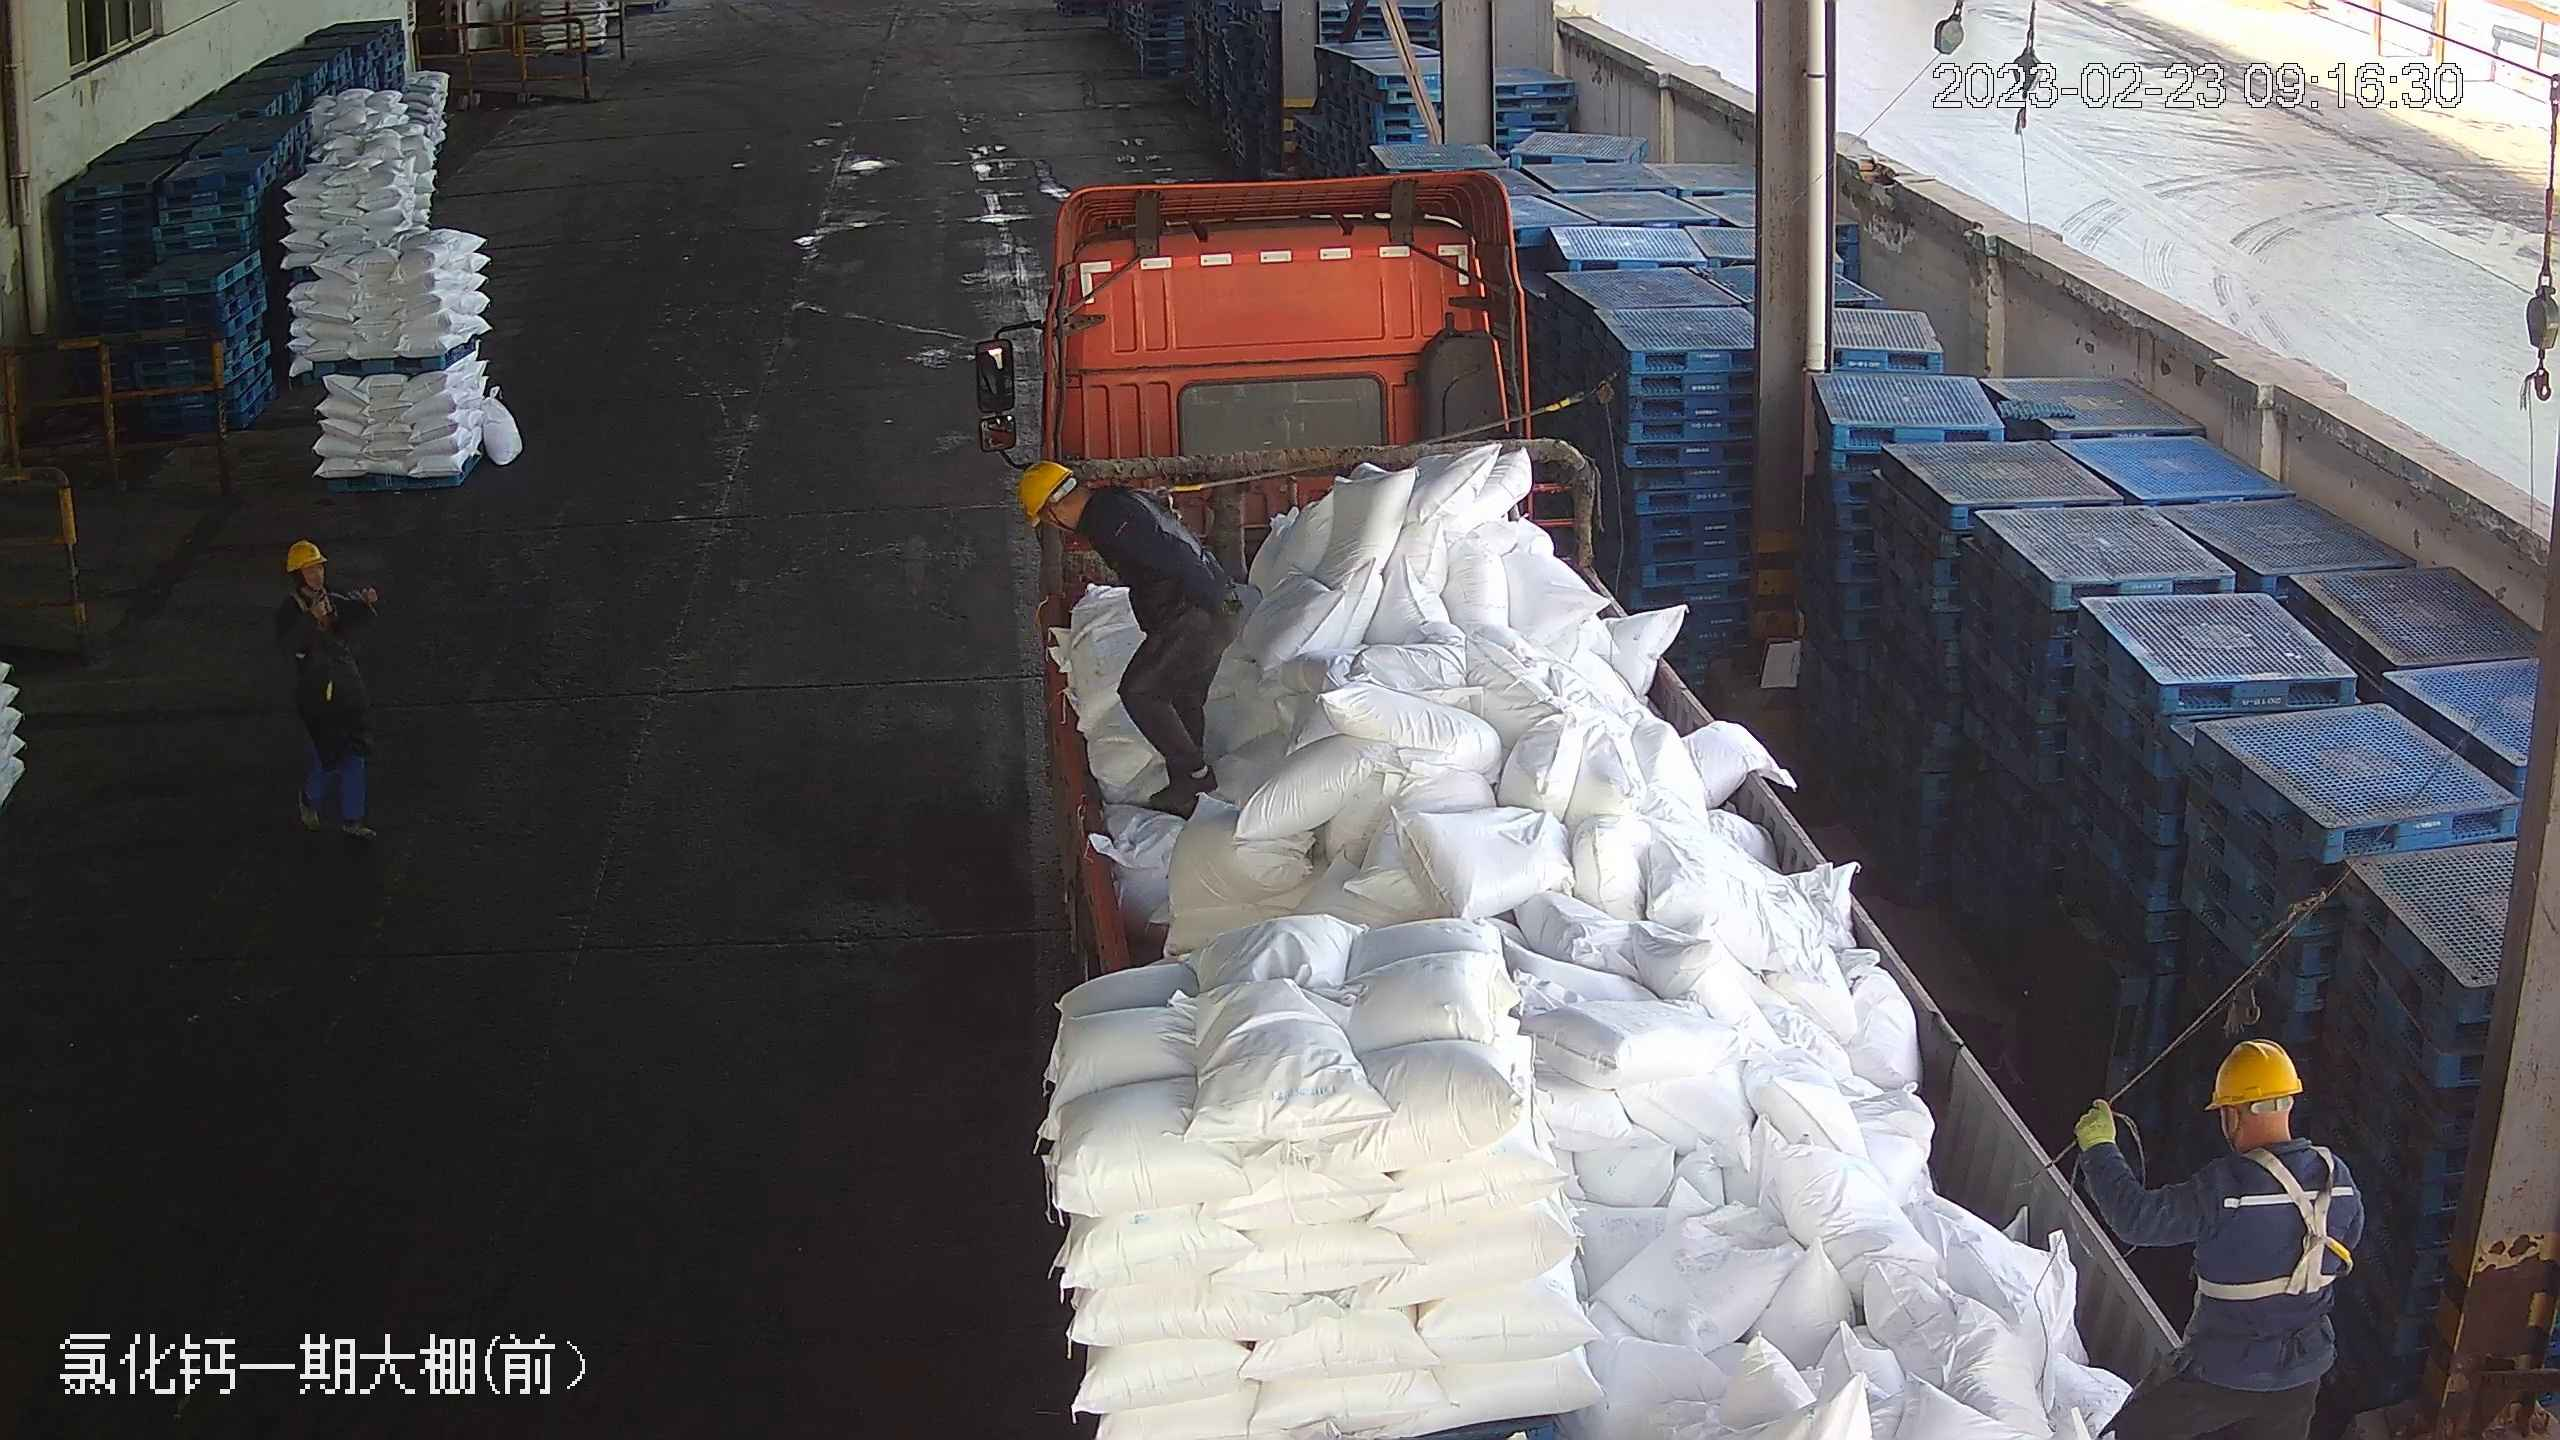belt: (2203, 1140, 2360, 1304), (1108, 469, 1223, 534), (290, 585, 342, 623)
head: (2175, 1037, 2361, 1240), (1017, 459, 1182, 579), (274, 538, 358, 628)
helmet: (2205, 1039, 2304, 1105), (1015, 460, 1076, 527), (280, 536, 327, 572)
people: (2070, 1037, 2363, 1440), (1016, 460, 1246, 827), (269, 532, 386, 843)
truck: (977, 171, 2270, 1435)
